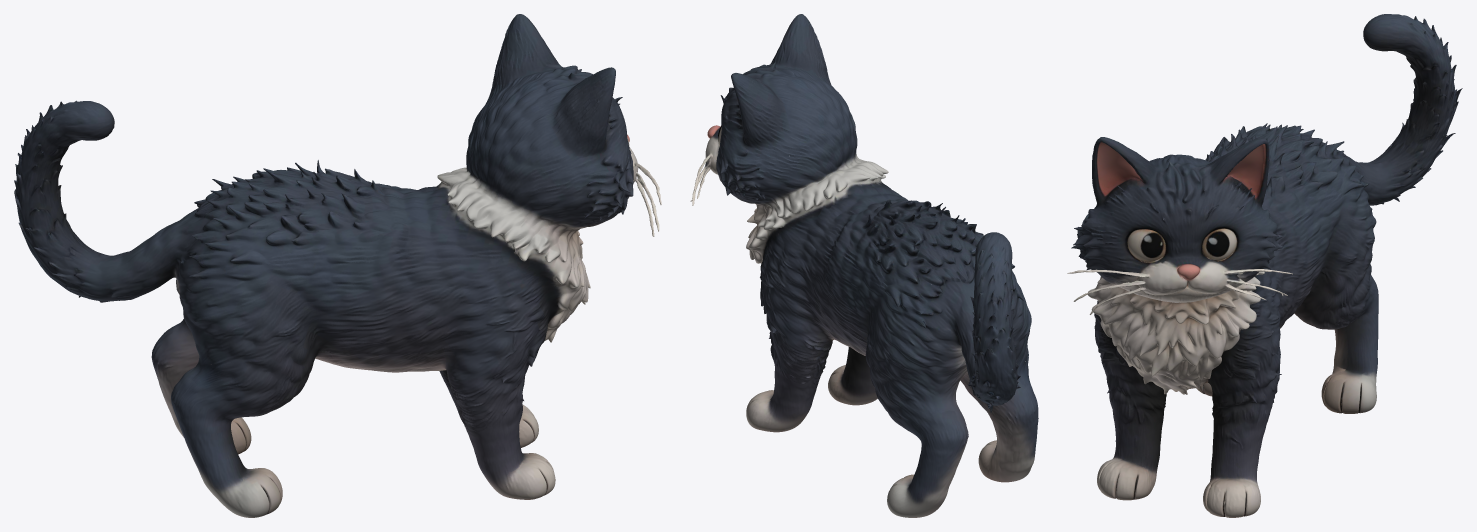
The model's file is model_a16aa560-2142-4cad-bdcc-93f7d1941058_draco.glb.
3 views of the same model, side by side, from view 1: azimuth 30°, elevation 25°; view 2: azimuth 150°, elevation 25°; view 3: azimuth 270°, elevation 25° (orthographic). The views are drawn at different scales.
Parts seen in each view (by area): view 1: tripo_node_a16aa560-2142-4cad-bdcc-93f7d1941058; view 2: tripo_node_a16aa560-2142-4cad-bdcc-93f7d1941058; view 3: tripo_node_a16aa560-2142-4cad-bdcc-93f7d1941058.
Part boxes in pixels (x1,y1,x2,y2): tripo_node_a16aa560-2142-4cad-bdcc-93f7d1941058: [14, 14, 661, 517]; tripo_node_a16aa560-2142-4cad-bdcc-93f7d1941058: [690, 14, 1038, 517]; tripo_node_a16aa560-2142-4cad-bdcc-93f7d1941058: [1067, 14, 1462, 517].
Bounding box in the file's own units: 0.9986 × 0.8189 × 0.7549.
1 material, 1 textured.
